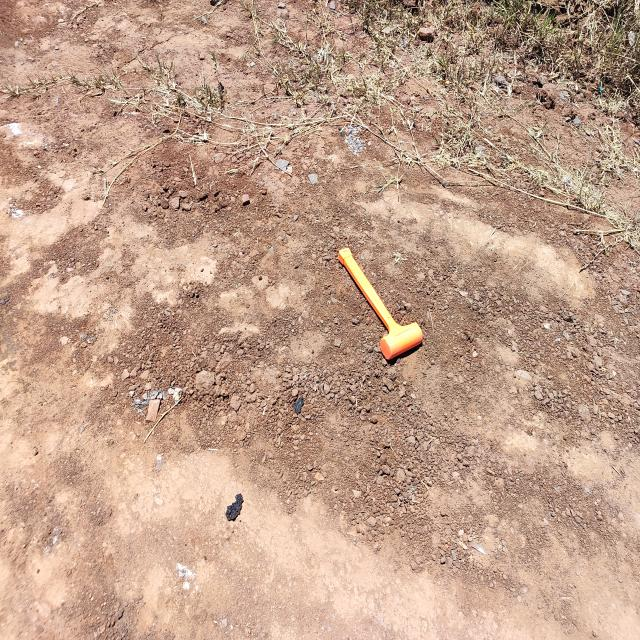Orange_hammer: (337, 246, 423, 362)
